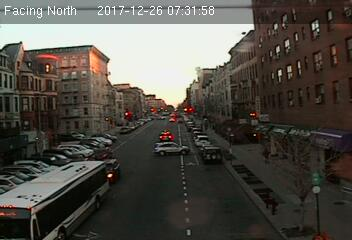bus: (1, 159, 109, 240)
car: (97, 157, 121, 185), (153, 142, 189, 155), (200, 146, 223, 163), (159, 129, 173, 142)
